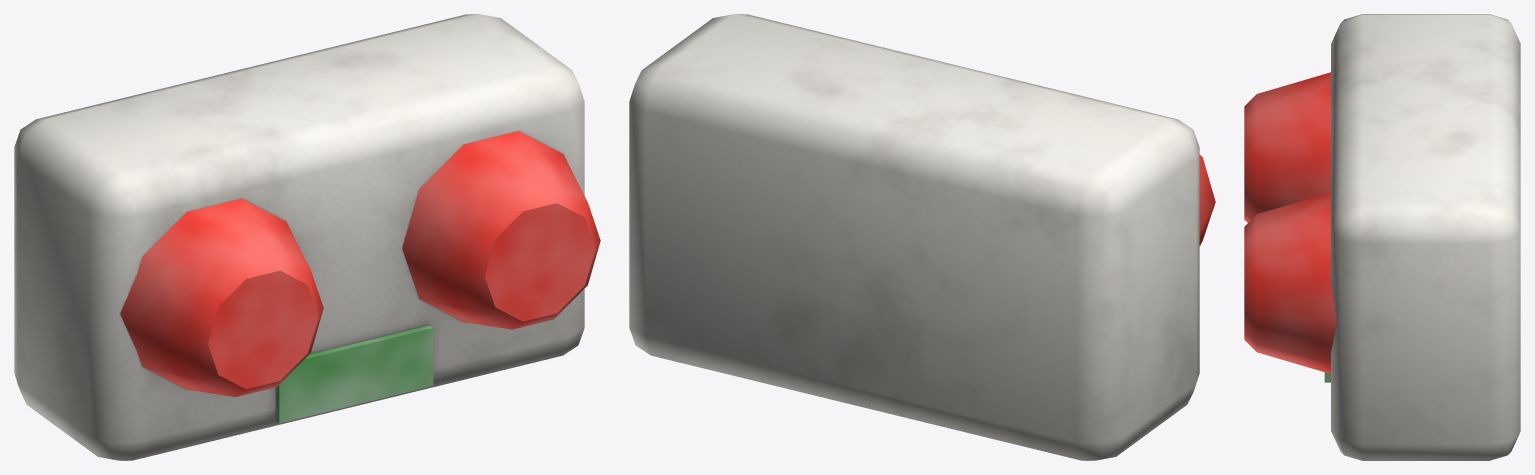
The model's file is emergency_light.fbx.
The picture shows the model from 3 angles, left to right: view 1: azimuth 30°, elevation 25°; view 2: azimuth 150°, elevation 25°; view 3: azimuth 270°, elevation 25°; orthographic projection. The views are drawn at different scales.
Visible parts, largest first — view 1: Body, Glow; view 2: Body, Glow; view 3: Body, Glow.
Boxes of the visible parts, x1,y1,x2,y2 form: Body: (14,14,584,460); Glow: (120,131,600,397); Body: (629,14,1199,460); Glow: (1199,154,1215,246); Body: (1324,14,1520,460); Glow: (1244,72,1336,373).
Bounding box in the file's own units: 1.6 × 0.9 × 0.875.
Materials: 1 (1 with a texture image).
